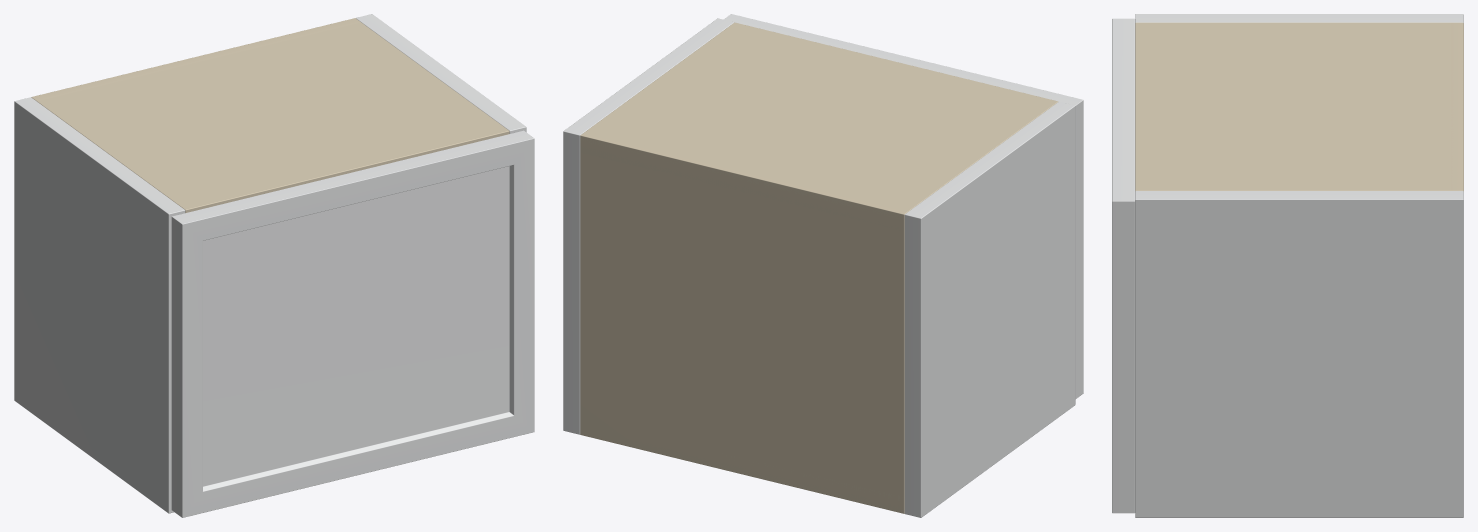
File: oppein-ply-ssw-w1512.glb
3 views of the same model, side by side, from view 1: azimuth 30°, elevation 25°; view 2: azimuth 150°, elevation 25°; view 3: azimuth 270°, elevation 25° (orthographic). The views are drawn at different scales.
Parts seen in each view (by area): view 1: Door, Cabinet side, Cabinet top, Cabinet side.001, Cabinet back; view 2: Cabinet back, Cabinet side, Cabinet top, Cabinet side.001, Door, Cabinet bottom; view 3: Cabinet side.001, Cabinet top, Door, Cabinet side, Cabinet back.
Boxes of the visible parts, bbox=[...] form: Door: bbox=[171, 130, 534, 517]; Cabinet side: bbox=[14, 97, 185, 513]; Cabinet top: bbox=[37, 22, 509, 212]; Cabinet side.001: bbox=[356, 14, 526, 133]; Cabinet back: bbox=[31, 18, 360, 101]; Cabinet back: bbox=[580, 131, 909, 513]; Cabinet side: bbox=[904, 101, 1075, 517]; Cabinet top: bbox=[580, 22, 1058, 230]; Cabinet side.001: bbox=[563, 18, 733, 434]; Door: bbox=[724, 14, 1083, 398]; Cabinet bottom: bbox=[580, 429, 904, 513]; Cabinet side.001: bbox=[1135, 191, 1463, 517]; Cabinet top: bbox=[1135, 22, 1462, 190]; Door: bbox=[1112, 18, 1135, 513]; Cabinet side: bbox=[1135, 14, 1463, 22]; Cabinet back: bbox=[1450, 22, 1463, 191].
Bounding box in the file's own units: 0.381 × 0.3048 × 0.3048.
